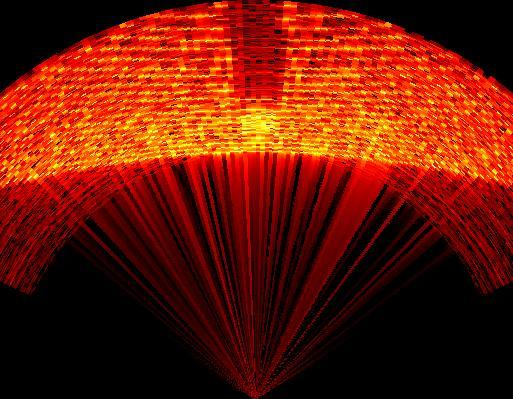box_crate: (226, 4, 292, 110)
